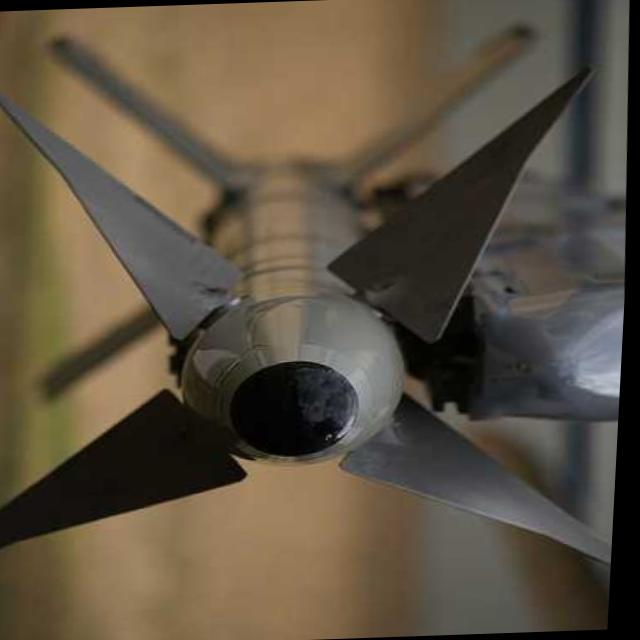missile: (0, 25, 639, 593)
